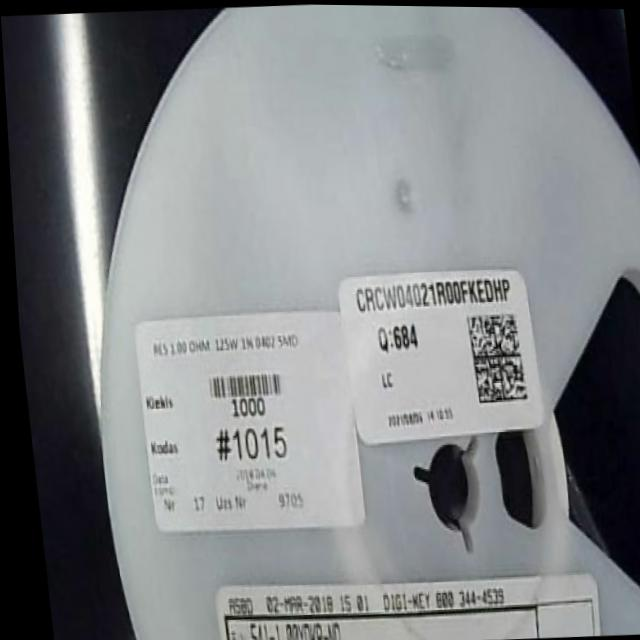datamatrix: (463, 309, 529, 404)
